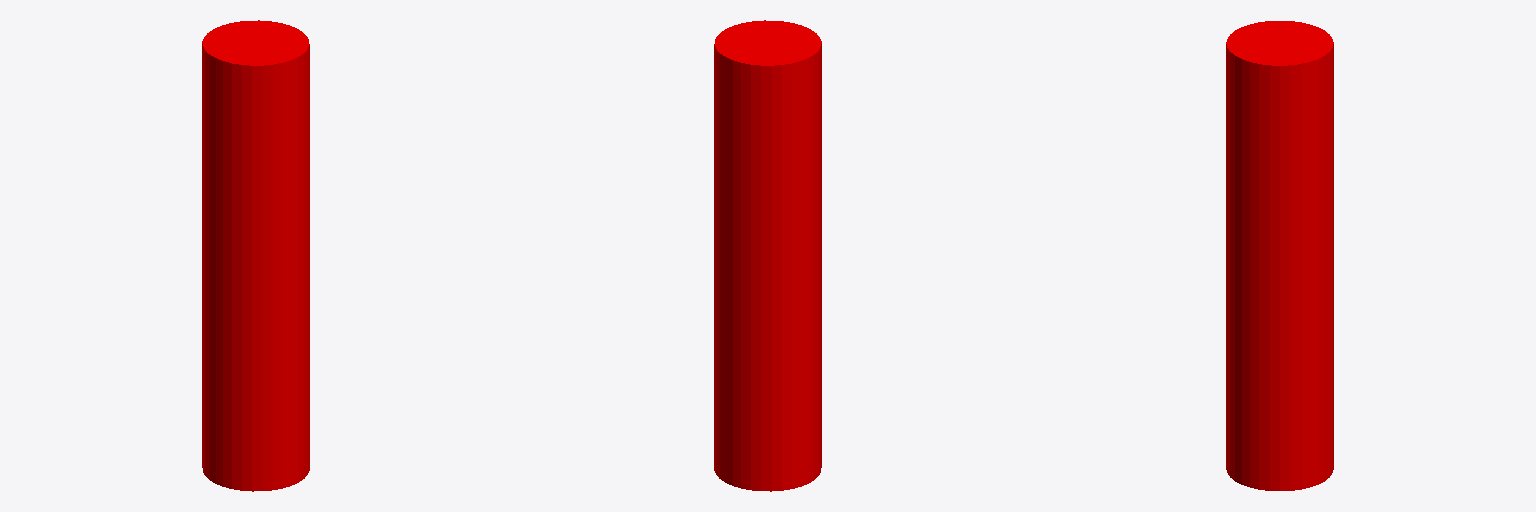
robot.urdf — panda:
<?xml version="1.0" ?>
<!-- =================================================================================== -->
<!-- |    This robot model incorporates collision shapes for all robot links.          | -->
<!-- |    The collision shapes are approximated with thin boxes or cylinders.          | -->
<!-- =================================================================================== -->
<robot name="panda">
  <!--    Root world link-->
  <link name="world"/>
  <joint name="world_joint" type="fixed">
    <parent link="world"/>
    <child link="omni_base_root_link"/>
  </joint>
  <link name="omni_base_root_link"/>
  <link name="x_slider">
    <inertial>
      <origin rpy="0 0 0" xyz="0.0 0.0 0.0"/>
      <mass value="0.01"/>
      <inertia ixx="0.01" ixy="0.0" ixz="0.0" iyy="0.01" iyz="0.0" izz="0.01"/>
    </inertial>
  </link>
  <link name="y_slider">
    <inertial>
      <origin rpy="0 0 0" xyz="0.0 0.0 0.0"/>
      <mass value="0.01"/>
      <inertia ixx="0.01" ixy="0.0" ixz="0.0" iyy="0.01" iyz="0.0" izz="0.01"/>
    </inertial>
  </link>
  <link name="pivot">
    <inertial>
      <origin rpy="0 0 0" xyz="0.0 0.0 0.0"/>
      <mass value="0.01"/>
      <inertia ixx="0.01" ixy="0.0" ixz="0.0" iyy="0.01" iyz="0.0" izz="0.01"/>
    </inertial>
  </link>
  <joint name="x_base_joint" type="prismatic">
    <parent link="omni_base_root_link"/>
    <child link="x_slider"/>
    <origin rpy="0 0 0" xyz="0.0 0.0 0.0"/>
    <axis xyz="1 0 0"/>
    <limit effort="1000.0" lower="-10" upper="10" velocity="1.0"/>
    <dynamics damping="0.0" friction="10.0"/>
  </joint>
  <transmission name="transmision_x_base_joint">
    <type>transmission_interface/SimpleTransmission</type>
    <joint name="x_base_joint">
      <hardwareInterface>hardware_interface/EffortJointInterface</hardwareInterface>
    </joint>
    <actuator name="x_base_joint_motor">
      <mechanicalReduction>1</mechanicalReduction>
    </actuator>
  </transmission>
  <joint name="y_base_joint" type="prismatic">
    <parent link="x_slider"/>
    <child link="y_slider"/>
    <origin rpy="0 0 0" xyz="0.0 0.0 0.0"/>
    <axis xyz="0 1 0"/>
    <limit effort="1000.0" lower="-10" upper="10" velocity="1.0"/>
    <dynamics damping="0.0" friction="10.0"/>
  </joint>
  <transmission name="transmision_y_base_joint">
    <type>transmission_interface/SimpleTransmission</type>
    <joint name="y_base_joint">
      <hardwareInterface>hardware_interface/EffortJointInterface</hardwareInterface>
    </joint>
    <actuator name="y_base_joint_motor">
      <mechanicalReduction>1</mechanicalReduction>
    </actuator>
  </transmission>
  <joint name="pivot_joint" type="revolute">
    <parent link="y_slider"/>
    <child link="pivot"/>
    <origin rpy="0 0 0" xyz="0.0 0.0 0.0"/>
    <axis xyz="0 0 1"/>
    <limit effort="1000.0" lower="-10.0" upper="10.0" velocity="1.0"/>
    <dynamics damping="0.0" friction="10.0"/>
  </joint>
  <transmission name="transmision_pivot_joint">
    <type>transmission_interface/SimpleTransmission</type>
    <joint name="pivot_joint">
      <hardwareInterface>hardware_interface/EffortJointInterface</hardwareInterface>
    </joint>
    <actuator name="pivot_joint_motor">
      <mechanicalReduction>1</mechanicalReduction>
    </actuator>
  </transmission>
  <joint name="omni_base_flange" type="fixed">
    <parent link="pivot"/>
    <child link="base_link"/>
  </joint>
  <material name="dark_grey">
    <color rgba="0.2 0.2 0.2 1.0"/>
  </material>
  <material name="light_grey">
    <color rgba="0.4 0.4 0.4 1.0"/>
  </material>
  <material name="red">
    <color rgba="0.8 0.0 0.0 1.0"/>
  </material>
  <material name="white">
    <color rgba="0.9 0.9 0.9 1.0"/>
  </material>
  <material name="yellow">
    <color rgba="0.8 0.8 0.0 1.0"/>
  </material>
  <material name="black">
    <color rgba="0.15 0.15 0.15 1.0"/>
  </material>
  <link name="base_link">
    <inertial>
      <origin rpy="0 0 0" xyz="0 0 0.25"/>
      <mass value="1.0"/>
      <inertia ixx="0.048966669" ixy="0" ixz="0" iyy="0.046466667" iyz="0" izz="0.0041666669"/>
    </inertial>
  </link>
  <joint name="base_link_joint" type="fixed">
    <origin rpy="0 0 0" xyz="0 0 0"/>
    <parent link="base_link"/>
    <child link="chassis_link"/>
  </joint>
  <link name="chassis_link">
    <visual>
      <origin rpy="0 0 0" xyz="0 0 0"/>
      <geometry>
        <mesh filename="mppi_manipulation/data/meshes/ridgeback/meshes/body.stl"/>
      </geometry>
      <material name="black"/>
    </visual>
    <inertial>
      <origin rpy="1.5707963267948966 0 1.5707963267948966" xyz="0.012 0.002 0.067"/>
      <mass value="165.304"/>
      <inertia ixx="4.4744" ixy="0.03098" ixz="0.003647" iyy="7.1624" iyz="0.1228" izz="4.6155"/>
    </inertial>
  </link>
  <joint name="right_side_cover_link_joint" type="fixed">
    <origin rpy="0 0 0" xyz="0 0 0"/>
    <parent link="chassis_link"/>
    <child link="right_side_cover_link"/>
  </joint>
  <joint name="left_side_cover_link_joint" type="fixed">
    <origin rpy="0 0 0" xyz="0 0 0"/>
    <parent link="chassis_link"/>
    <child link="left_side_cover_link"/>
  </joint>
  <link name="left_side_cover_link">
    <visual>
      <origin rpy="0 0 3.141592653589793" xyz="0 0 0"/>
      <geometry>
        <mesh filename="mppi_manipulation/data/meshes/ridgeback/meshes/side-cover.stl"/>
      </geometry>
      <material name="yellow"/>
    </visual>
  </link>
  <link name="right_side_cover_link">
    <visual>
      <origin rpy="0 0 0" xyz="0 0 0"/>
      <geometry>
        <mesh filename="mppi_manipulation/data/meshes/ridgeback/meshes/side-cover.stl"/>
      </geometry>
      <material name="yellow"/>
    </visual>
  </link>
  <joint name="front_cover_link_joint" type="fixed">
    <origin rpy="0 0 0" xyz="0 0 0"/>
    <parent link="chassis_link"/>
    <child link="front_cover_link"/>
  </joint>
  <link name="front_cover_link">
    <visual>
      <origin rpy="0 0 0" xyz="0 0 0"/>
      <geometry>
        <mesh filename="mppi_manipulation/data/meshes/ridgeback/meshes/end-cover.stl"/>
      </geometry>
      <material name="black"/>
    </visual>
  </link>
  <joint name="rear_cover_link_joint" type="fixed">
    <origin rpy="0 0 0" xyz="0 0 0"/>
    <parent link="chassis_link"/>
    <child link="rear_cover_link"/>
  </joint>
  <link name="rear_cover_link">
    <visual>
      <origin rpy="0 0 3.141592653589793" xyz="0 0 0"/>
      <geometry>
        <mesh filename="mppi_manipulation/data/meshes/ridgeback/meshes/end-cover.stl"/>
      </geometry>
      <material name="black"/>
    </visual>
  </link>
  <joint name="front_lights_link_joint" type="fixed">
    <origin rpy="0 0 0" xyz="0 0 0"/>
    <parent link="chassis_link"/>
    <child link="front_lights_link"/>
  </joint>
  <joint name="rear_lights_link_joint" type="fixed">
    <origin rpy="0 0 0" xyz="0 0 0"/>
    <parent link="chassis_link"/>
    <child link="rear_lights_link"/>
  </joint>
  <link name="front_lights_link">
    <visual>
      <origin rpy="0 0 0" xyz="0 0 0"/>
      <geometry>
        <mesh filename="mppi_manipulation/data/meshes/ridgeback/meshes/lights.stl"/>
      </geometry>
      <material name="white"/>
    </visual>
  </link>
  <link name="rear_lights_link">
    <visual>
      <origin rpy="0 0 3.141592653589793" xyz="0 0 0"/>
      <geometry>
        <mesh filename="mppi_manipulation/data/meshes/ridgeback/meshes/lights.stl"/>
      </geometry>
      <material name="red"/>
    </visual>
  </link>
  <joint name="top_link_joint" type="fixed">
    <origin rpy="0 0 0" xyz="0 0 0"/>
    <parent link="chassis_link"/>
    <child link="top_link"/>
  </joint>
  <link name="top_link">
    <visual>
      <origin rpy="0 0 0" xyz="0 0 0"/>
      <geometry>
        <mesh filename="mppi_manipulation/data/meshes/ridgeback/meshes/top.stl"/>
      </geometry>
      <material name="black"/>
    </visual>
  </link>
  <joint name="axle_joint" type="fixed">
    <origin rpy="0 0 0" xyz="0 0 0.05"/>
    <parent link="chassis_link"/>
    <child link="axle_link"/>
  </joint>
  <link name="axle_link">
    <visual>
      <origin rpy="0 1.5707963267948966 0" xyz="0 0 0"/>
      <geometry>
        <mesh filename="mppi_manipulation/data/meshes/ridgeback/meshes/axle.stl"/>
      </geometry>
      <material name="black"/>
    </visual>
  </link>
  <link name="imu_link">
    <inertial>
      <mass value="0.001"/>
      <origin rpy="0 0 0" xyz="0 0 0"/>
      <inertia ixx="1e-09" ixy="0.0" ixz="0.0" iyy="1e-09" iyz="0.0" izz="1e-09"/>
    </inertial>
  </link>
  <joint name="imu_joint" type="fixed">
    <parent link="chassis_link"/>
    <child link="imu_link"/>
    <origin rpy="0 0 0" xyz="0.2085 -0.2902 0.1681"/>
  </joint>
  <link name="mid_mount"/>
  <joint name="mid_mount_joint" type="fixed">
    <parent link="base_link"/>
    <child link="mid_mount"/>
    <origin rpy="0 0 0" xyz="0 0 0.28"/>
  </joint>
  <!-- Sensor mount -->
  <link name="ridgeback_sensor_mount_link">
    <!--             <visual>
                <geometry>
                    <mesh filename="package://mppi_manipulation/data/meshes/ridgeback_sensor_mount.dae"/>
                </geometry>
            </visual> -->
  </link>
  <joint name="ridgeback_sensor_mount_joint" type="fixed">
    <origin rpy="0 0 1.571" xyz="0 0 0"/>
    <parent link="mid_mount"/>
    <child link="ridgeback_sensor_mount_link"/>
  </joint>
  <link name="reference_link"/>
  <joint name="reference_link_joint" type="fixed">
    <origin rpy="0 0 0" xyz="-0.343 0 0.77"/>
    <parent link="mid_mount"/>
    <child link="reference_link"/>
  </joint>
  <!--Mount panda on ridgeback-->
  <joint name="arm_mount_joint" type="fixed">
    <parent link="mid_mount"/>
    <child link="franka_mount_link"/>
    <!--        <origin xyz="$(optenv RIDGEBACK_FRANKA_XYZ 0.21 0.0 0.2)" rpy="$(optenv RIDGEBACK_FRANKA_RPY 0 0 0)"/>-->
    <origin rpy="0 0 0" xyz="0.295 0.005 0.445"/>
  </joint>
  <link name="franka_mount_link"/>
  <joint name="panda_joint_franka_mount_link" type="fixed">
    <parent link="franka_mount_link"/>
    <child link="panda_link0"/>
    <origin rpy="0 0 0" xyz="0 0 0"/>
  </joint>
  <!--
      <gazebo>
        <plugin filename="libgazebo_ros_control.so" name="gazebo_ros_control">
          <robotNamespace>/</robotNamespace>
          <robotParam>/</robotParam>
        </plugin>
      </gazebo>
      <gazebo reference="panda_link0"/>
      <gazebo reference="panda_link1"/>
      <gazebo reference="panda_link2"/>
      <gazebo reference="panda_link3"/>
      <gazebo reference="panda_link4"/>
      <gazebo reference="panda_link5"/>
      <gazebo reference="panda_link6"/>
      <gazebo reference="panda_link7"/>
      <gazebo reference="panda_link8"/>
  -->
  <transmission name="panda_joint1_trans">
    <type>transmission_interface/SimpleTransmission</type>
    <joint name="panda_joint1">
      <hardwareInterface>hardware_interface/EffortJointInterface</hardwareInterface>
    </joint>
    <actuator name="panda_joint1_motor">
      <mechanicalReduction>1</mechanicalReduction>
    </actuator>
  </transmission>
  <transmission name="panda_joint2_trans">
    <type>transmission_interface/SimpleTransmission</type>
    <joint name="panda_joint2">
      <hardwareInterface>hardware_interface/EffortJointInterface</hardwareInterface>
    </joint>
    <actuator name="panda_joint2_motor">
      <mechanicalReduction>1</mechanicalReduction>
    </actuator>
  </transmission>
  <transmission name="panda_joint3_trans">
    <type>transmission_interface/SimpleTransmission</type>
    <joint name="panda_joint3">
      <hardwareInterface>hardware_interface/EffortJointInterface</hardwareInterface>
    </joint>
    <actuator name="panda_joint3_motor">
      <mechanicalReduction>1</mechanicalReduction>
    </actuator>
  </transmission>
  <transmission name="panda_joint4_trans">
    <type>transmission_interface/SimpleTransmission</type>
    <joint name="panda_joint4">
      <hardwareInterface>hardware_interface/EffortJointInterface</hardwareInterface>
    </joint>
    <actuator name="panda_joint4_motor">
      <mechanicalReduction>1</mechanicalReduction>
    </actuator>
  </transmission>
  <transmission name="panda_joint5_trans">
    <type>transmission_interface/SimpleTransmission</type>
    <joint name="panda_joint5">
      <hardwareInterface>hardware_interface/EffortJointInterface</hardwareInterface>
    </joint>
    <actuator name="panda_joint5_motor">
      <mechanicalReduction>1</mechanicalReduction>
    </actuator>
  </transmission>
  <transmission name="panda_joint6_trans">
    <type>transmission_interface/SimpleTransmission</type>
    <joint name="panda_joint6">
      <hardwareInterface>hardware_interface/EffortJointInterface</hardwareInterface>
    </joint>
    <actuator name="panda_joint6_motor">
      <mechanicalReduction>1</mechanicalReduction>
    </actuator>
  </transmission>
  <transmission name="panda_joint7_trans">
    <type>transmission_interface/SimpleTransmission</type>
    <joint name="panda_joint7">
      <hardwareInterface>hardware_interface/EffortJointInterface</hardwareInterface>
    </joint>
    <actuator name="panda_joint7_motor">
      <mechanicalReduction>1</mechanicalReduction>
    </actuator>
  </transmission>


  <!-- arm links start here -->
  <link name="panda_link0">
    <inertial>
      <mass value="0.01"/>
      <origin rpy="0 0 0" xyz="0 0 0"/>
      <inertia ixx="0.001" ixy="0" ixz="0" iyy="0.001" iyz="0" izz="0.001"/>
    </inertial>
  </link>
  <link name="panda_link1">
   <inertial>
      <mass value="0.01"/>
      <origin rpy="0 0 0" xyz="0 0 0"/>
      <inertia ixx="0.001" ixy="0" ixz="0" iyy="0.001" iyz="0" izz="0.001"/>
    </inertial>
  </link>
  <!-- panda_joint1 is a dummy joint (i.e. panda_link1 is not connected to anything downstream) -->
  <joint name="panda_joint1" type="prismatic">
    <safety_controller k_position="100.0" k_velocity="40.0" soft_lower_limit="-10" soft_upper_limit="10"/>
    <origin rpy="0 0 0" xyz="0 0 0"/>
    <parent link="panda_link0"/>
    <child link="panda_link1"/>
    <axis xyz="1 0 0"/>
    <limit effort="1000" lower="-20" upper="20" velocity="10"/>
    <dynamics damping="0.0" friction="0.0"/>
  </joint>
  <link name="panda_link2">
    <inertial>
      <mass value="0.01"/>
      <origin rpy="0 0 0" xyz="0 0 0"/>
      <inertia ixx="0.001" ixy="0" ixz="0" iyy="0.001" iyz="0" izz="0.001"/>
    </inertial>
  </link>
  <joint name="panda_joint2" type="prismatic">
    <safety_controller k_position="100.0" k_velocity="40.0" soft_lower_limit="-10" soft_upper_limit="10"/>
    <origin rpy="0 0 0" xyz="0 0 0"/>
    <parent link="panda_link0"/>
    <child link="panda_link2"/>
    <axis xyz="1 0 0"/>
    <limit effort="1000" lower="-20" upper="20" velocity="10"/>
    <dynamics damping="0.0" friction="0.0"/>
  </joint>
  <link name="panda_link3">
    <inertial>
      <mass value="0.01"/>
      <origin rpy="0 0 0" xyz="0 0 0"/>
      <inertia ixx="0.001" ixy="0" ixz="0" iyy="0.001" iyz="0" izz="0.001"/>
    </inertial>
  </link>
  <joint name="panda_joint3" type="prismatic">
    <safety_controller k_position="100.0" k_velocity="40.0" soft_lower_limit="-10" soft_upper_limit="10"/>
    <origin rpy="0 0 0" xyz="0 0 0"/>
    <parent link="panda_link2"/>
    <child link="panda_link3"/>
    <axis xyz="0 1 0"/>
    <limit effort="1000" lower="-20" upper="20" velocity="10"/>
    <dynamics damping="0.0" friction="0.0"/>
  </joint>
  <link name="panda_link4">
    <inertial>
      <mass value="0.01"/>
      <origin rpy="0 0 0" xyz="0 0 0"/>
      <inertia ixx="0.001" ixy="0" ixz="0" iyy="0.001" iyz="0" izz="0.001"/>
    </inertial>
  </link>
  <joint name="panda_joint4" type="prismatic">
    <safety_controller k_position="100.0" k_velocity="40.0" soft_lower_limit="-10" soft_upper_limit="10"/>
    <origin rpy="0 0 0" xyz="0 0 0"/>
    <parent link="panda_link3"/>
    <child link="panda_link4"/>
    <axis xyz="0 0 1"/>
    <limit effort="87" lower="-20" upper="20" velocity="10"/>
    <dynamics damping="0.0" friction="0.0"/>
  </joint>
  <link name="panda_link5">
    <inertial>
      <mass value="0.01"/>
      <origin rpy="0 0 0" xyz="0 0 0"/>
      <inertia ixx="0.001" ixy="0" ixz="0" iyy="0.001" iyz="0" izz="0.001"/>
    </inertial>
  </link>
  <joint name="panda_joint5" type="revolute">
    <safety_controller k_position="100.0" k_velocity="40.0" soft_lower_limit="-30" soft_upper_limit="30"/>
    <origin rpy="0 0 0" xyz="0 0 0"/>
    <parent link="panda_link4"/>
    <child link="panda_link5"/>
    <axis xyz="1 0 0"/>
    <limit effort="87" lower="-60" upper="60" velocity="30"/>
    <dynamics damping="0.0" friction="0.0"/>
  </joint>
  <link name="panda_link6">
    <inertial>
      <mass value="0.01"/>
      <origin rpy="0 0 0" xyz="0 0 0"/>
      <inertia ixx="0.001" ixy="0" ixz="0" iyy="0.001" iyz="0" izz="0.001"/>
    </inertial>
  </link>
  <joint name="panda_joint6" type="revolute">
    <safety_controller k_position="100.0" k_velocity="40.0" soft_lower_limit="-30" soft_upper_limit="30"/>
    <origin rpy="0 0 0" xyz="0 0 0"/>
    <parent link="panda_link5"/>
    <child link="panda_link6"/>
    <axis xyz="0 1 0"/>
    <limit effort="87" lower="-60" upper="60" velocity="30"/>
    <dynamics damping="0.0" friction="0.0"/>
  </joint>
  <link name="panda_link7">
    <inertial>
      <mass value="0.01"/>
      <origin rpy="0 0 0" xyz="0 0 0"/>
      <inertia ixx="0.001" ixy="0" ixz="0" iyy="0.001" iyz="0" izz="0.001"/>
    </inertial>
  </link>
  <joint name="panda_joint7" type="revolute">
    <safety_controller k_position="100.0" k_velocity="40.0" soft_lower_limit="-30" soft_upper_limit="30"/>
    <origin rpy="0 0 0" xyz="0 0 0"/>
    <parent link="panda_link6"/>
    <child link="panda_link7"/>
    <axis xyz="0 0 1"/>
    <limit effort="87" lower="-60" upper="60" velocity="30"/>
    <dynamics damping="0.0" friction="0.0"/>
  </joint>


  <!-- hand starts here -->
  <link name="panda_link8">
    <inertial>
      <mass value="0.0"/>
      <origin rpy="0 0 0" xyz="0.0 0.0 0.0"/>
      <inertia ixx="0.0" ixy="0.0" ixz="0" iyy="0.0" iyz="0.0" izz="0.0"/>
    </inertial>
  </link>
  <joint name="panda_joint8" type="fixed">
    <origin rpy="0 0 0" xyz="0 0 0.107"/>
    <parent link="panda_link7"/>
    <child link="panda_link8"/>
    <axis xyz="0 0 0"/>
  </joint>
  <joint name="panda_hand_joint" type="fixed">
    <parent link="panda_link8"/>
    <child link="panda_hand"/>
    <origin rpy="0 0 -0.785398163397" xyz="0 0 0"/>
  </joint>
  <link name="panda_hand">
    <inertial>
      <mass value="0.73"/>
      <origin rpy="0 0 0" xyz="0 0.0015244 0.0275912"/>
      <inertia ixx="0.00278560230025" ixy="0.0" ixz="0.0" iyy="0.000400033405336" iyz="0.0" izz="0.00256378041832"/>
    </inertial>
    <visual>
      <origin rpy="0 0 0" xyz="0 0 0"/>
      <geometry>
        <mesh filename="mppi_panda/resources/panda/meshes/visual/hand.dae"/>
      </geometry>
      <material name="steel">
        <color rgba="1 1 1 1"/>
      </material>
    </visual>
    <collision>
      <!--<origin rpy="0 0 0" xyz="0 0 0"/>-->
      <origin rpy="0 0 0" xyz="0 0 0.0333"/>
      <geometry>
        <mesh filename="mppi_panda/resources/panda/meshes/collision/hand.obj"/>
        <!--mesh filename="${resources_prefix}${resources_directory}/resources/panda/meshes/collision/hand.${collision_format}"/!-->
        <!--<box size="0.035 0.19 0.065"/>-->
      </geometry>
    </collision>
  </link>
  <gazebo reference="panda_hand"/>
  <gazebo reference="panda_leftfinger"/>
  <gazebo reference="panda_rightfinger"/>
  <transmission name="panda_finger_joint1_trans">
    <type>transmission_interface/SimpleTransmission</type>
    <joint name="panda_finger_joint1">
      <hardwareInterface>hardware_interface/PositionJointInterface</hardwareInterface>
    </joint>
    <actuator name="panda_finger_joint1_motor">
      <mechanicalReduction>1</mechanicalReduction>
    </actuator>
  </transmission>
  <transmission name="panda_finger_joint2_trans">
    <type>transmission_interface/SimpleTransmission</type>
    <joint name="panda_finger_joint2">
      <hardwareInterface>hardware_interface/PositionJointInterface</hardwareInterface>
    </joint>
    <actuator name="panda_finger_joint2_motor">
      <mechanicalReduction>1</mechanicalReduction>
    </actuator>
  </transmission>
  <link name="panda_leftfinger">
    <inertial>
      <mass value="0.01"/>
      <origin rpy="0 0 0" xyz="0 0.0145644 0.0227941"/>
      <inertia ixx="0.001" ixy="0.0" ixz="0.0" iyy="0.01" iyz="0.0" izz="0.001"/>
    </inertial>
    <visual>
      <origin rpy="0.0 0 3.14159265359" xyz="0 0.022 0.039"/>
      <geometry>
        <cylinder radius="0.008" length="0.07"/>
        <!--<box size="0.021 0.009 0.070"/>-->
      </geometry>
      <material name="steel">
        <color rgba="1 0 0 1"/>
      </material>
    </visual>
    <!--
    <visual>
      <origin rpy="0.0 0 3.14159265359" xyz="0 0.014 0.0665"/>
      <geometry>
        <box size="0.021 0.025 0.015"/>
      </geometry>
      <material name="steel">
        <color rgba="1 0 0 1"/>
      </material>
    </visual>
    -->
    <collision>
      <origin rpy="0.0 0 3.14159265359" xyz="0 0.022 0.039"/>
      <geometry>
        <cylinder radius="0.008" length="0.07"/>
        <!--<box size="0.021 0.009 0.070"/>-->
      </geometry>
    </collision>
    <!--
    <collision>
      <origin rpy="0.0 0 3.14159265359" xyz="0 0.014 0.0665"/>
      <geometry>
        <box size="0.021 0.025 0.015"/>
      </geometry>
    </collision>
    -->
  </link>
  <link name="panda_rightfinger">
    <inertial>
      <mass value="0.01"/>
      <origin rpy="0 0 0" xyz="0 0.0145644 0.0227941"/>
      <inertia ixx="0.001" ixy="0.0" ixz="0.0" iyy="0.01" iyz="0.0" izz="0.001"/>
    </inertial>
  </link>
  <joint name="panda_finger_joint1" type="prismatic">
    <parent link="panda_hand"/>
    <child link="panda_leftfinger"/>
    <origin rpy="0 0 0" xyz="0 0 0.0584"/>
    <!-- 0.0584 -->
    <axis xyz="0 1 0"/>
    <limit effort="20" lower="-0.001" upper="0.04" velocity="0.3"/>
  </joint>
  <joint name="panda_finger_joint2" type="prismatic">
    <parent link="panda_hand"/>
    <child link="panda_rightfinger"/>
    <origin rpy="0 0 0" xyz="0 0 0.0584"/>
    <!-- 0.064 -->
    <axis xyz="0 -1 0"/>
    <limit effort="20" lower="-0.001" upper="0.04" velocity="0.3"/>
  </joint>
  <link name="panda_grasp"/>
  <joint name="panda_grasp_joint" type="fixed">
    <parent link="panda_hand"/>
    <child link="panda_grasp"/>
    <axis xyz="0 1 0"/>
    <origin rpy="0 0 0" xyz="0 0 0.095"/>
    <!-- 0.106-->
  </joint>
  <link name="panda_grasp_finger"/>
  <joint name="panda_grasp__finger_joint" type="fixed">
    <parent link="panda_hand"/>
    <child link="panda_grasp_finger"/>
    <axis xyz="0 1 0"/>
    <origin rpy="0 0 0" xyz="0 0.025 0.125"/>
    <!-- 0.106-->
  </joint>
  <link name="panda_grasp_finger_edge"/>
  <joint name="panda_grasp__finger_edge_joint" type="fixed">
    <parent link="panda_hand"/>
    <child link="panda_grasp_finger_edge"/>
    <axis xyz="0 1 0"/>
    <origin rpy="0 0 0" xyz="0 0.04 0.15"/>
    <!-- 0.106-->
  </joint>
</robot>

--- What the picture shows (computed from the rendered views, not written in the file) ---
The picture shows the robot from 3 angles, left to right: view 1: azimuth 30°, elevation 25°; view 2: azimuth 150°, elevation 25°; view 3: azimuth 270°, elevation 25°; orthographic projection.
Model panda with 35 links and 34 joints (4 revolute, 8 prismatic, 22 fixed), rooted at world, posed every joint at zero.
Visible links, largest first — view 1: panda_leftfinger; view 2: panda_leftfinger; view 3: panda_leftfinger.
Link boxes in pixels (<box>): panda_leftfinger: <box>202,20,309,491</box>; panda_leftfinger: <box>714,20,821,491</box>; panda_leftfinger: <box>1226,21,1333,490</box>.
Bounding box of the posed robot: 0.016 × 0.016 × 0.07 m (x, y, z).
0 mesh visuals loaded from 7 distinct referenced files (none loaded); not drawn: 10 (reference not matched to a file when rendering).